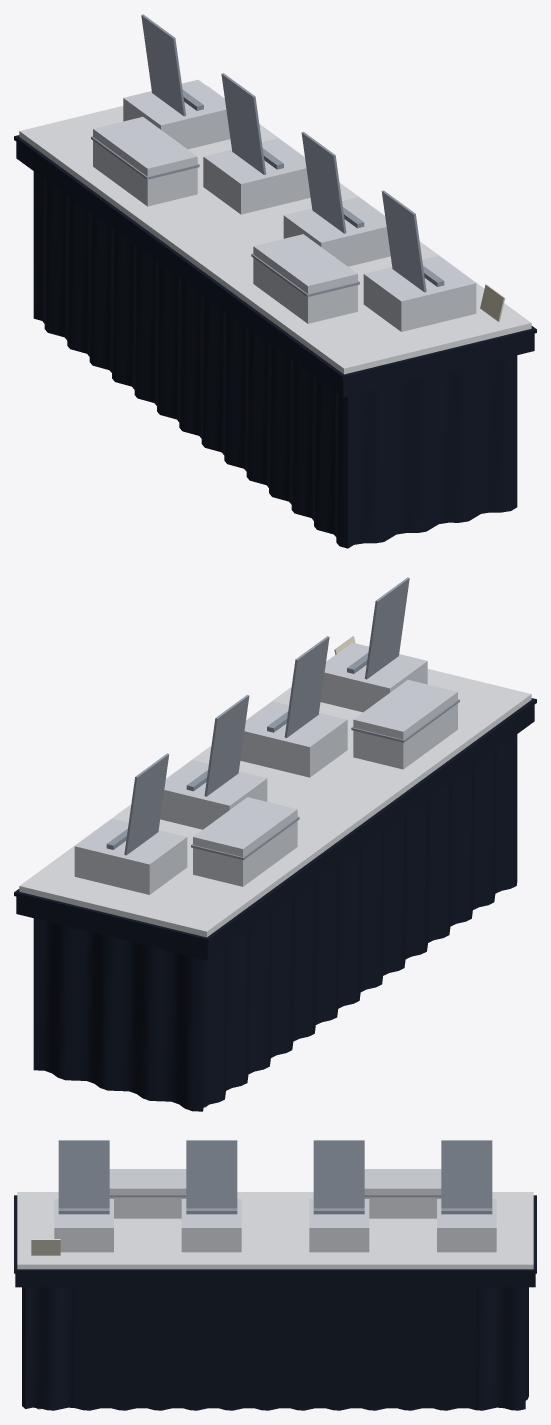
Rendered from table_wide.glb.
3 renders of one model, top to bottom at view 1: azimuth 30°, elevation 25°; view 2: azimuth 150°, elevation 25°; view 3: azimuth 270°, elevation 25°, orthographic. The views are drawn at different scales.
Parts seen in each view (by area): view 1: skirt, product, top, trim; view 2: skirt, product, top, trim; view 3: skirt_front, skirt, top, product, trim, paper.
Boxes of the visible parts, x1=… form: skirt: x1=14, y1=135, x2=536, y2=548; product: x1=93, y1=79, x2=476, y2=331; top: x1=19, y1=85, x2=531, y2=374; trim: x1=91, y1=14, x2=444, y2=296; skirt: x1=14, y1=698, x2=536, y2=1111; product: x1=74, y1=642, x2=457, y2=894; top: x1=19, y1=655, x2=531, y2=937; trim: x1=106, y1=577, x2=459, y2=859; skirt_front: x1=74, y1=1287, x2=476, y2=1408; skirt: x1=14, y1=1195, x2=536, y2=1410; top: x1=17, y1=1192, x2=533, y2=1269; product: x1=54, y1=1169, x2=496, y2=1252; trim: x1=58, y1=1140, x2=492, y2=1214; paper: x1=31, y1=1239, x2=60, y2=1255.
Bounding box in the file's own units: 2.8 × 4.14 × 8.2.
